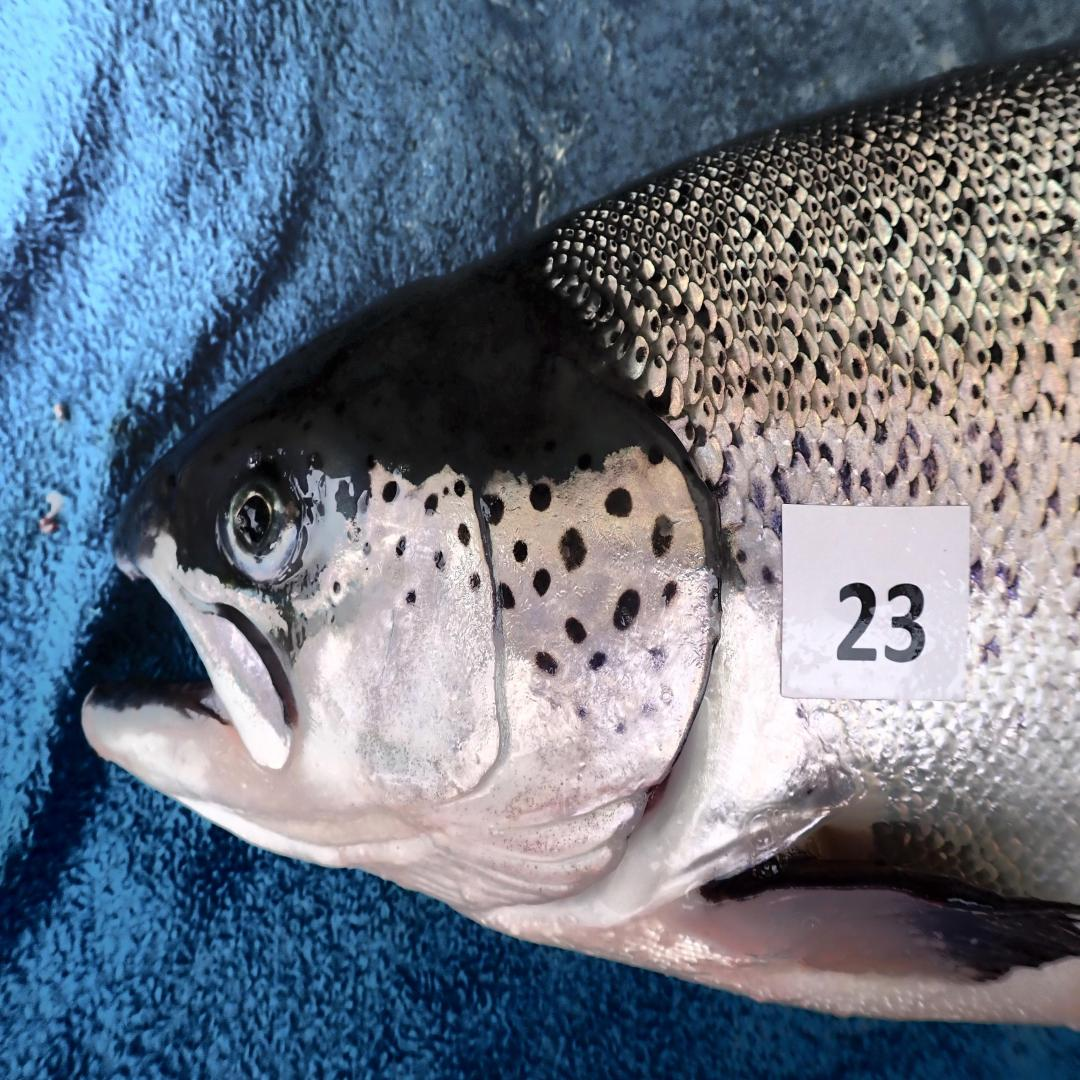spot: (559, 529, 586, 571), (614, 591, 641, 630), (652, 515, 673, 557), (605, 487, 633, 518), (483, 495, 504, 526), (529, 484, 551, 512), (565, 616, 586, 644), (536, 650, 559, 675), (534, 568, 551, 596), (648, 644, 667, 669), (500, 582, 515, 610), (662, 579, 677, 605), (382, 481, 399, 503), (647, 444, 664, 465), (513, 540, 527, 562), (424, 495, 439, 515), (458, 523, 470, 546), (589, 652, 605, 669), (576, 706, 591, 723), (468, 574, 481, 591), (454, 481, 466, 498), (614, 720, 626, 737), (435, 551, 445, 571), (397, 537, 407, 557), (405, 591, 416, 605), (363, 543, 370, 555), (333, 581, 340, 593), (443, 486, 449, 496)
